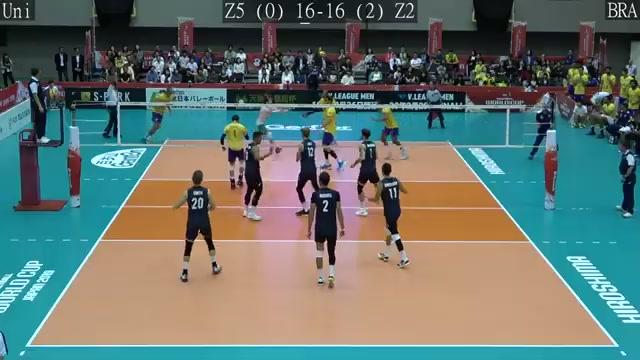ball: (318, 49, 327, 60)
